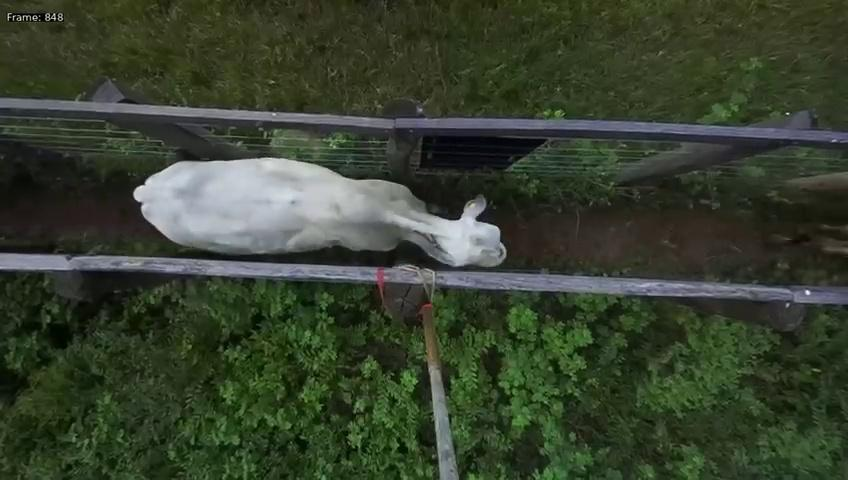cattle: (135, 126, 507, 268)
